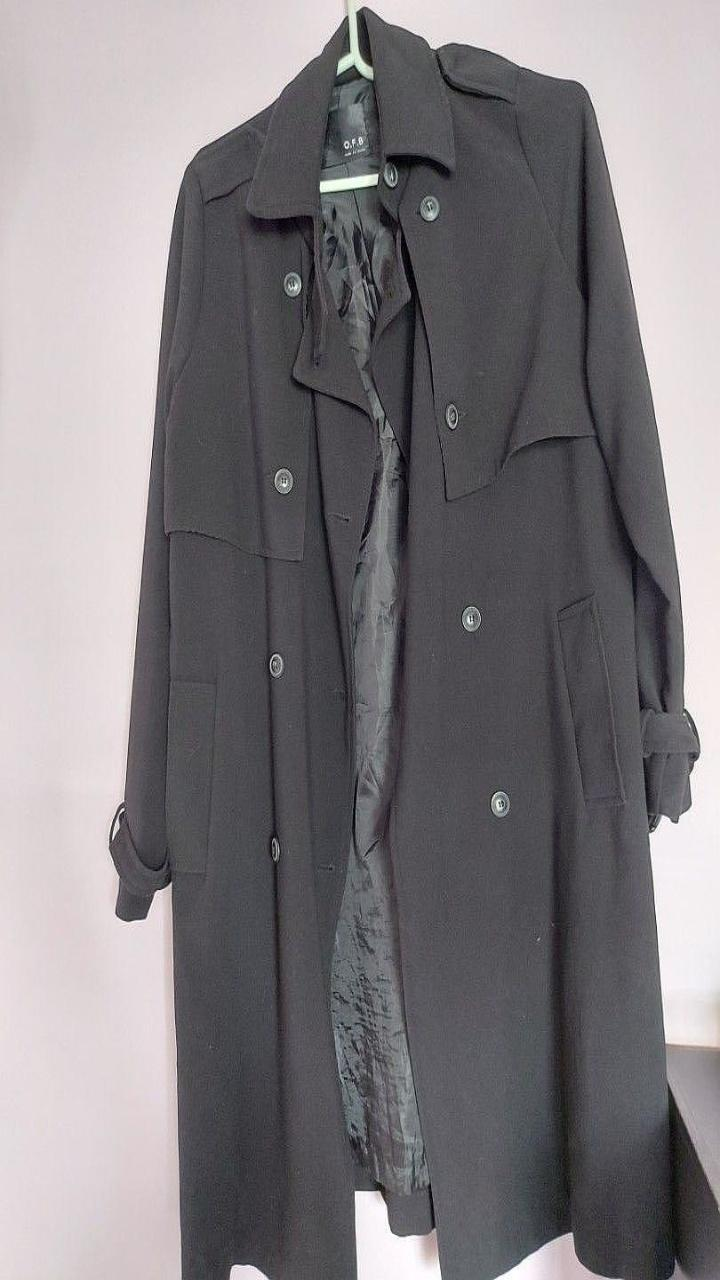Coat: (109, 7, 699, 1279)
